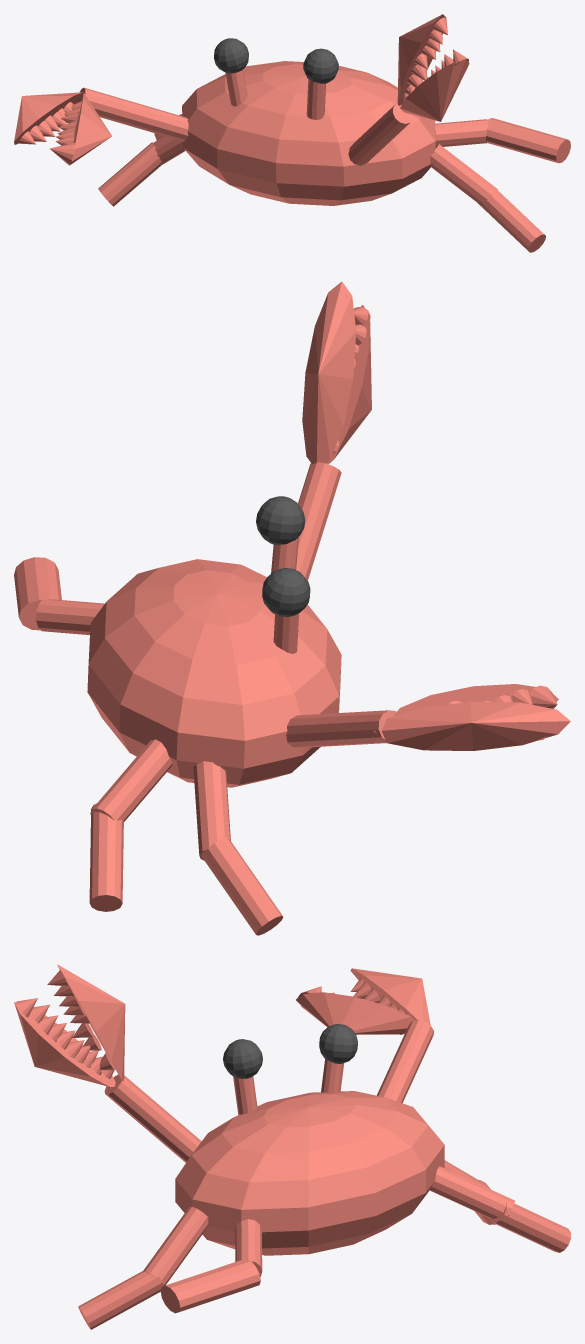
Rendered from crab.glb.
The picture shows the model from 3 angles, top to bottom: view 1: azimuth 30°, elevation 25°; view 2: azimuth 150°, elevation 25°; view 3: azimuth 270°, elevation 25°; orthographic projection. The views are drawn at different scales.
Visible parts, largest first — view 1: group1256487513, group577921848, group910858055, group1728367011, group361147636, group490688203, group1400381427, group932332261, group1173193262, group812361439, group587170002, group554165830 (+6 smaller); view 2: group1256487513, group1173193262, group812361439, group1400381427, group577921848, group101236353, group59544957, group361147636, group1594827069, group910858055, group1728367011, group554165830 (+4 smaller); view 3: group1256487513, group587170002, group910858055, group361147636, group812361439, group1728367011, group577921848, group932332261, group490688203, group59544957, group1173193262, group101236353 (+5 smaller).
Part boxes in pixels (x1,y1,x2,y2): group1256487513: (182, 61, 435, 205); group577921848: (76, 87, 188, 141); group910858055: (486, 118, 570, 163); group1728367011: (400, 59, 469, 121); group361147636: (348, 103, 413, 165); group490688203: (430, 144, 497, 205); group1400381427: (98, 142, 162, 206); group932332261: (478, 190, 545, 252); group1173193262: (14, 92, 82, 144); group812361439: (397, 14, 446, 105); group587170002: (71, 92, 111, 164); group554165830: (435, 119, 488, 146); group1256487513: (87, 559, 341, 787); group1173193262: (373, 701, 570, 750); group812361439: (302, 281, 356, 464); group1400381427: (201, 837, 283, 935); group577921848: (286, 710, 396, 747); group101236353: (89, 802, 123, 911); group59544957: (90, 739, 172, 821); group361147636: (296, 462, 341, 580); group1594827069: (193, 761, 230, 860); group910858055: (14, 557, 61, 630); group1728367011: (326, 305, 371, 464); group554165830: (36, 599, 104, 634); group1256487513: (175, 1091, 444, 1255); group587170002: (296, 992, 414, 1034); group910858055: (160, 1259, 260, 1313); group361147636: (104, 1074, 201, 1162); group812361439: (57, 964, 125, 1081); group1728367011: (14, 1002, 115, 1087); group577921848: (377, 1020, 433, 1103); group932332261: (78, 1271, 163, 1329); group490688203: (143, 1206, 208, 1285); group59544957: (429, 1166, 514, 1218); group1173193262: (350, 968, 432, 1036); group101236353: (488, 1202, 570, 1252).
Bounding box in the file's own units: 0.9257 × 0.5513 × 0.8303.
